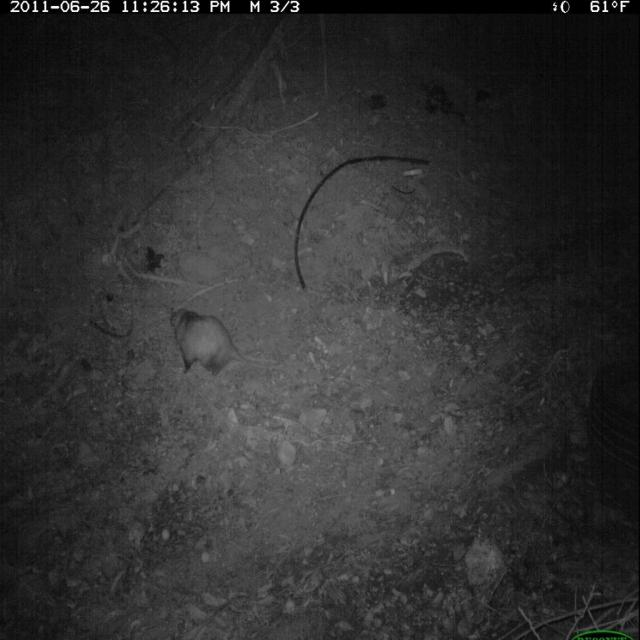opossum: (163, 298, 286, 383)
